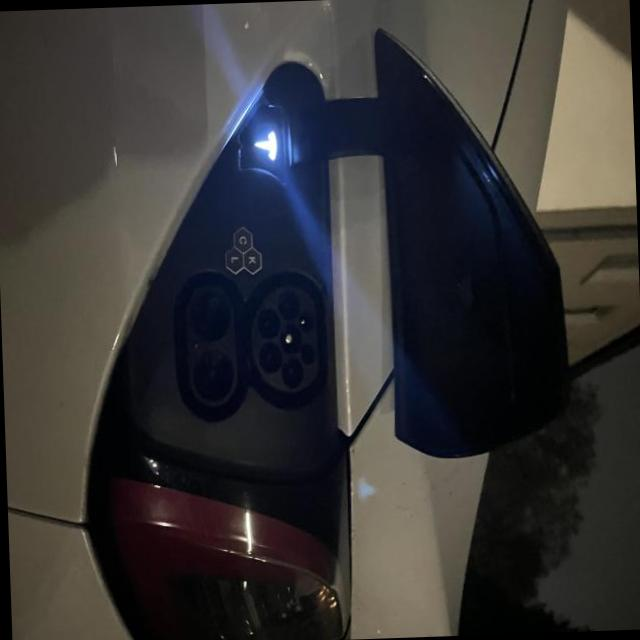inlet: (250, 285, 317, 392)
inlet-above-left: (297, 307, 313, 332)
inlet-above-right: (300, 342, 314, 364)
inlet-below-left: (256, 308, 279, 338)
inlet-below-right: (258, 342, 281, 373)
inlet-center: (279, 324, 301, 353)
inlet-center-left: (276, 290, 299, 320)
inlet-center-right: (281, 357, 302, 387)
